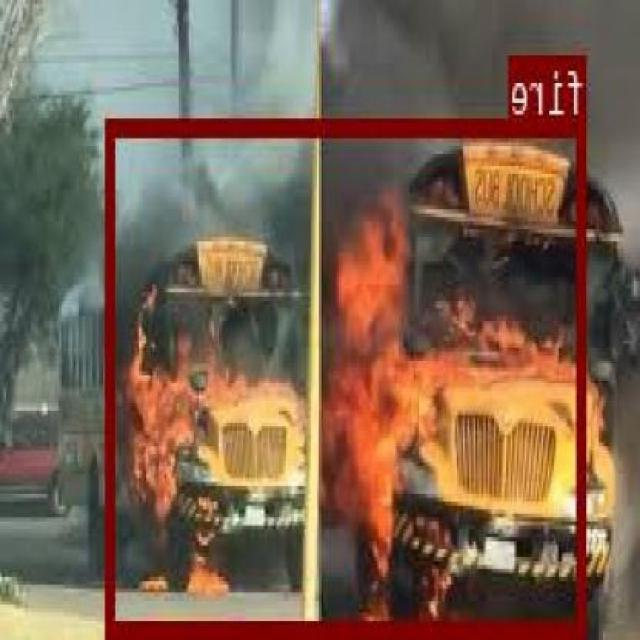Fire: (108, 115, 587, 632)
